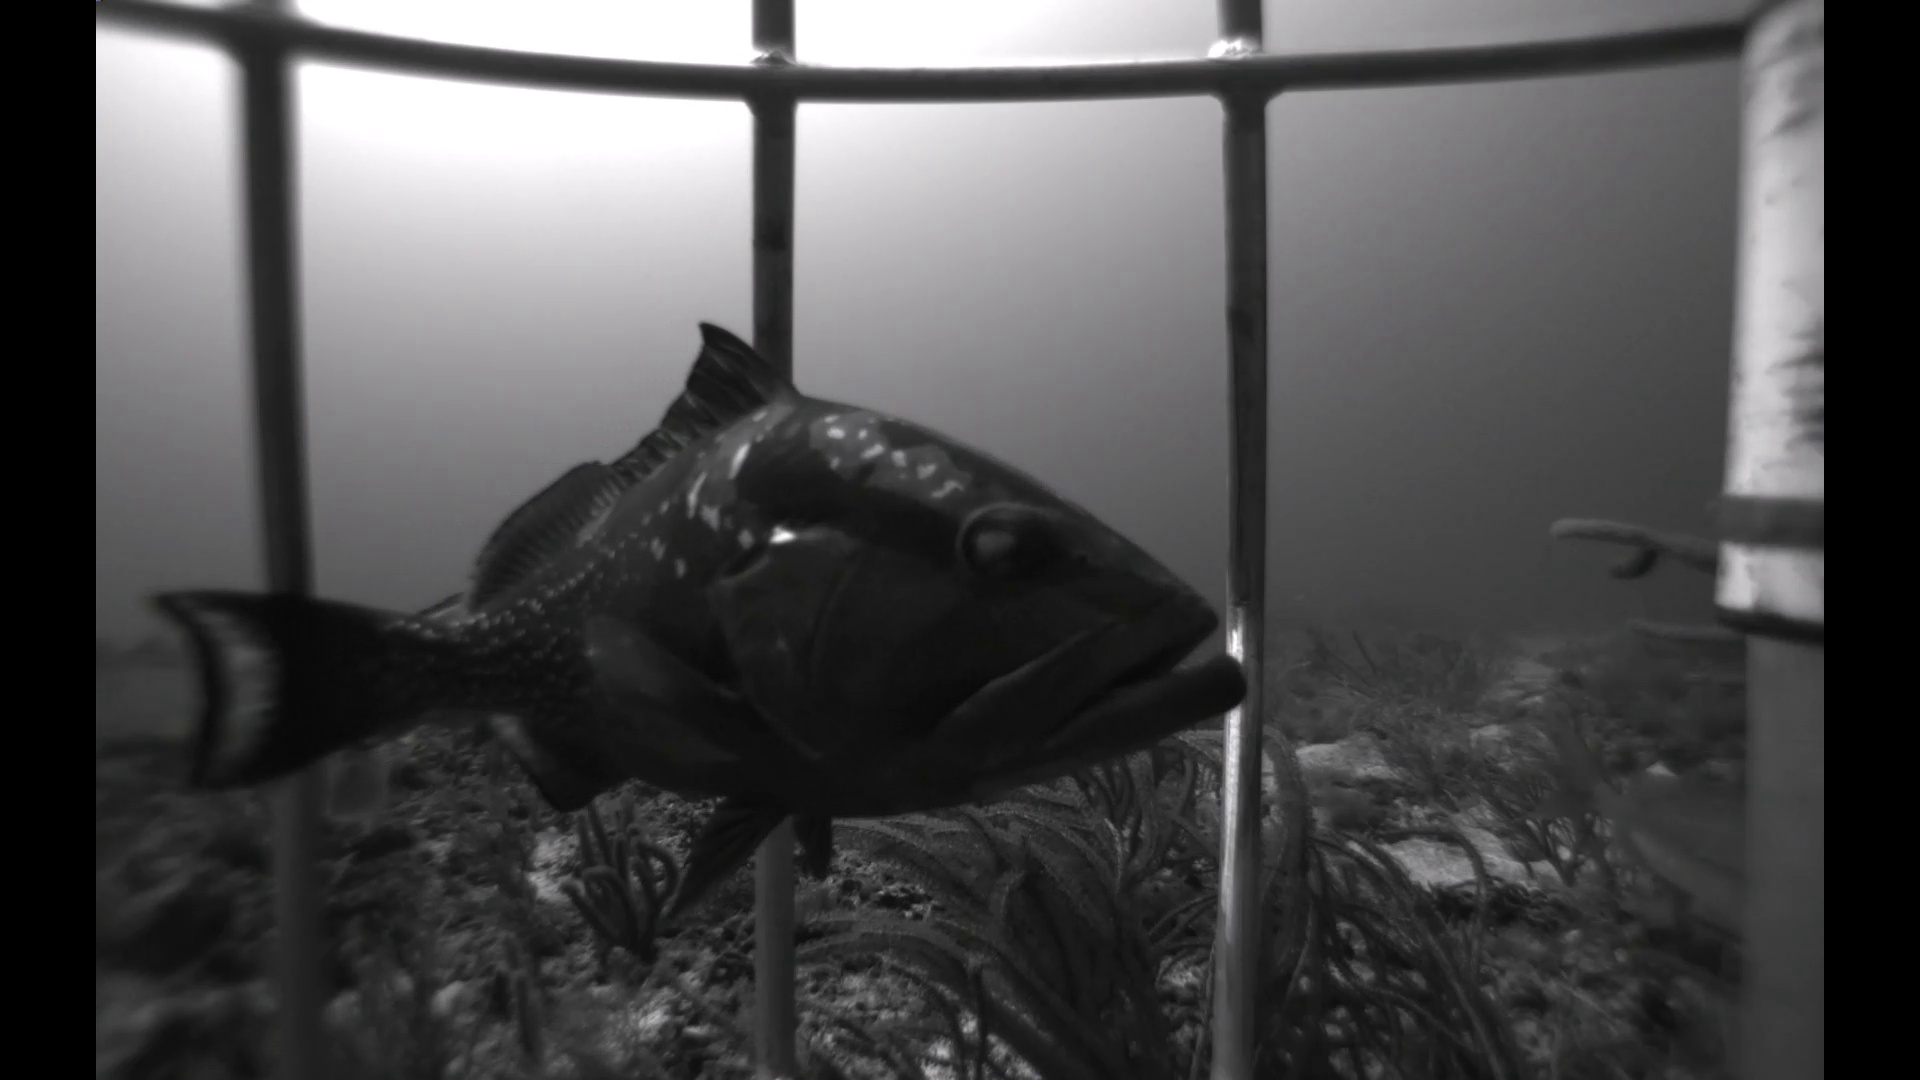CALAMUSNODOSUS-170210608: (1493, 684, 1751, 953), (306, 723, 396, 849)
EPINEPHELUSMORIO-170021211: (120, 306, 1257, 920), (390, 582, 512, 753)
